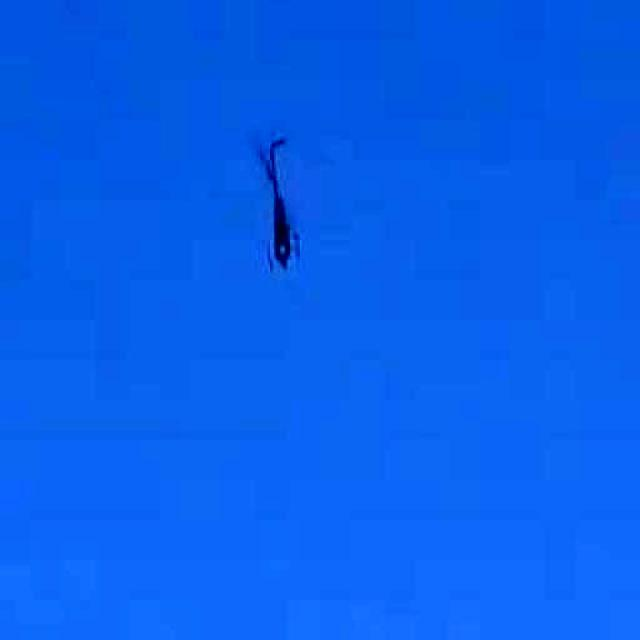drone: (210, 124, 344, 294)
